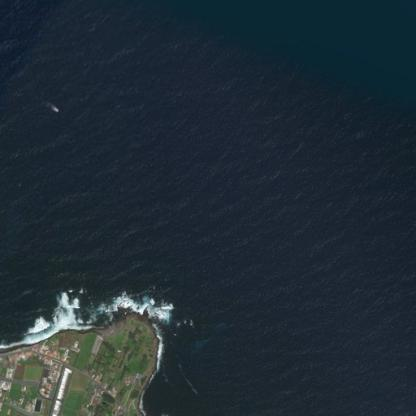ship: (53, 108, 57, 111)
